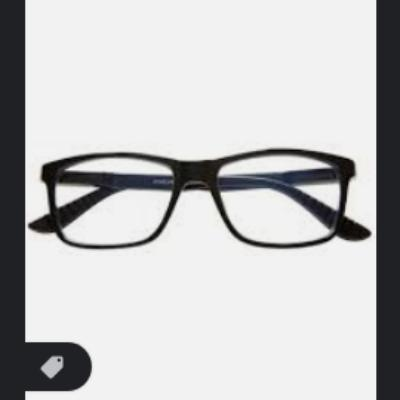glasses: (30, 139, 371, 270)
